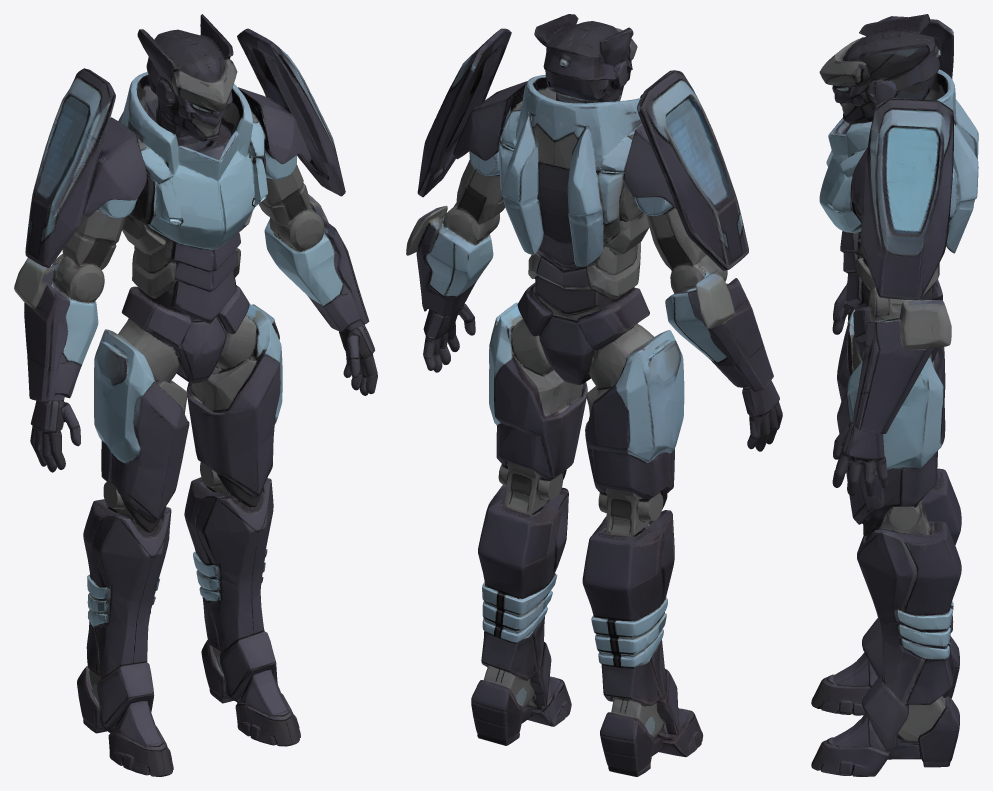
The model's file is mech_raw.glb.
3 views of the same model, side by side, from view 1: azimuth 30°, elevation 25°; view 2: azimuth 150°, elevation 25°; view 3: azimuth 270°, elevation 25° (orthographic). The views are drawn at different scales.
Size of the model in its own units: 0.9442 by 1.9 by 0.4077.
Materials: 1 (1 with a texture image).
